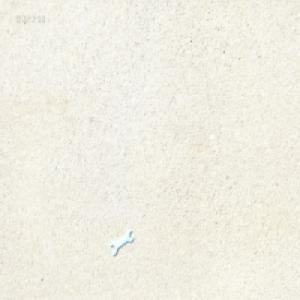Wrench: (111, 227, 134, 256)
